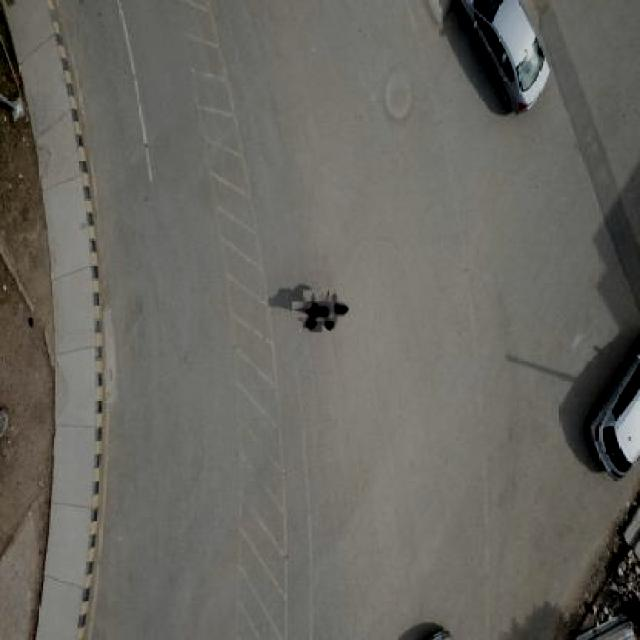Person: (296, 296, 328, 327), (314, 296, 344, 324)
